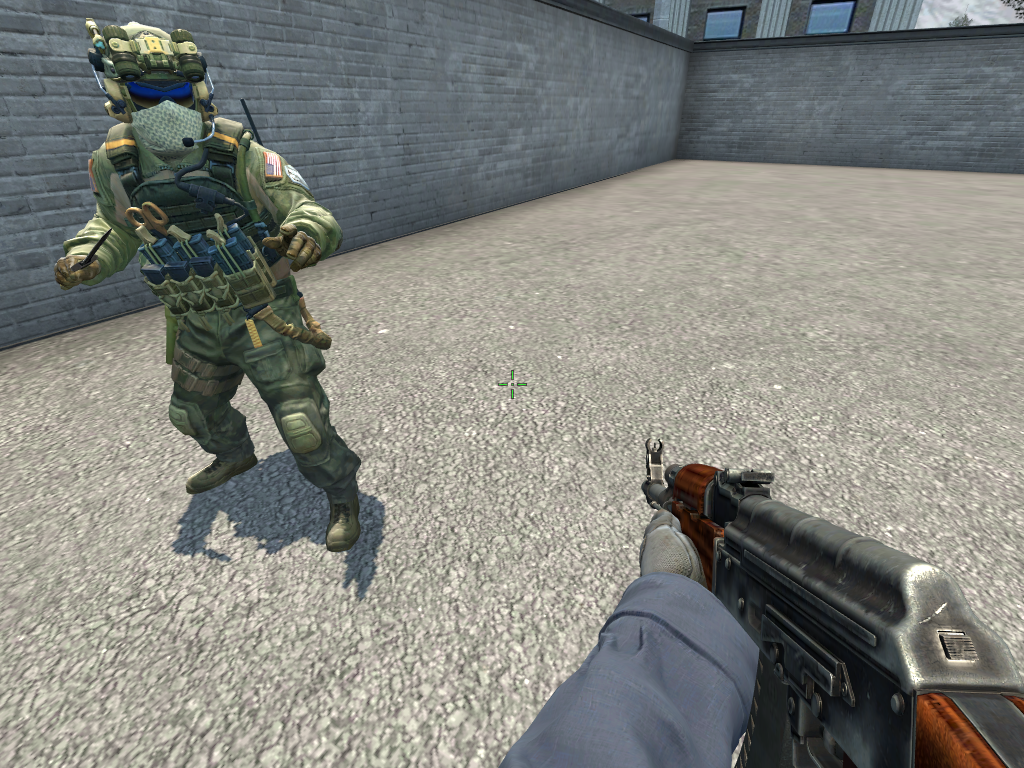ct head: (84, 20, 216, 148)
